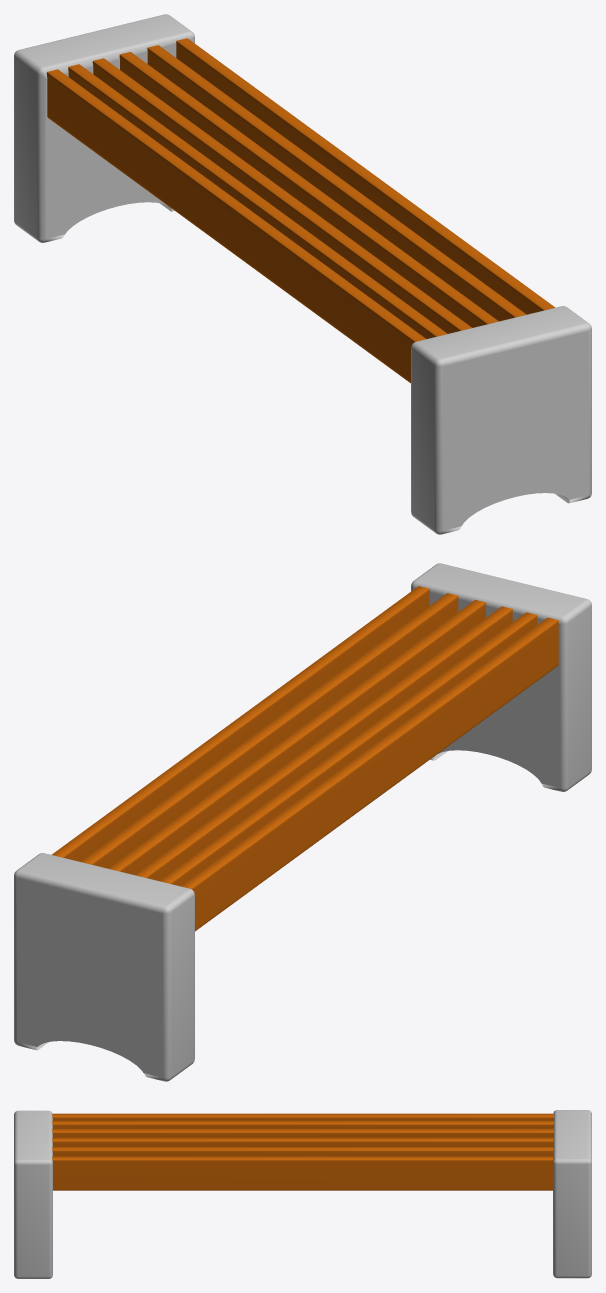
Rendered from SM_Bench.fbx.
3 views of the same model, one above another, from view 1: azimuth 30°, elevation 25°; view 2: azimuth 150°, elevation 25°; view 3: azimuth 270°, elevation 25° (orthographic). The views are drawn at different scales.
Visible parts, largest first — view 1: Cube (×2); view 2: Cube (×2); view 3: Cube (×2).
Boxes of the visible parts, <box> form: Cube (×2): <box>14,14,591,534</box>; Cube (×2): <box>14,563,591,1081</box>; Cube (×2): <box>14,1110,591,1278</box>.
Bounding box in the file's own units: 34.31 × 36.94 × 161.
